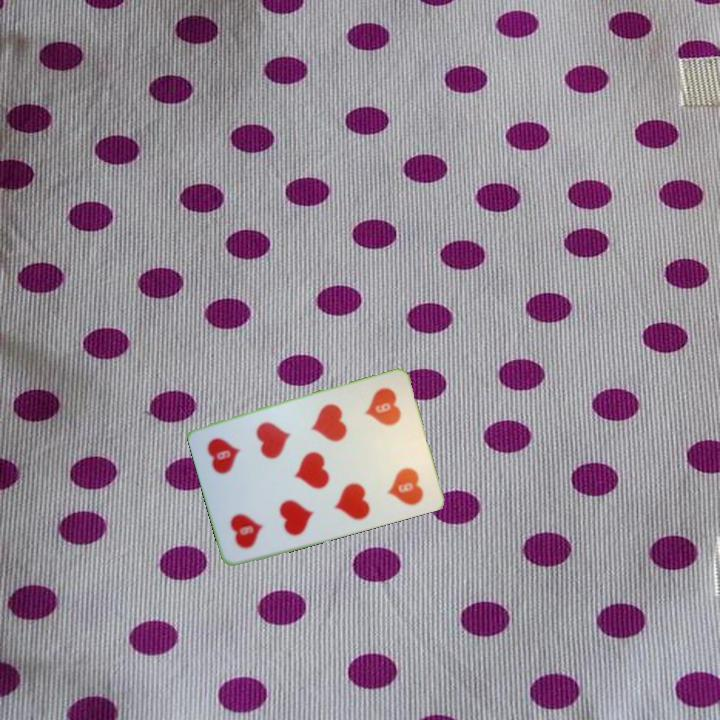h_9.png: (345, 378, 417, 457), (214, 479, 286, 557)
